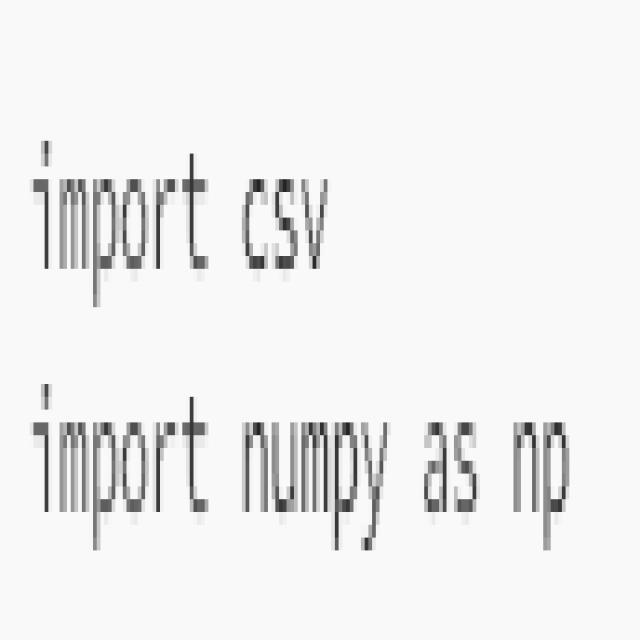word: (28, 373, 219, 551), (29, 126, 213, 305), (240, 392, 394, 559), (236, 157, 332, 296), (507, 398, 578, 556), (420, 404, 487, 539)
